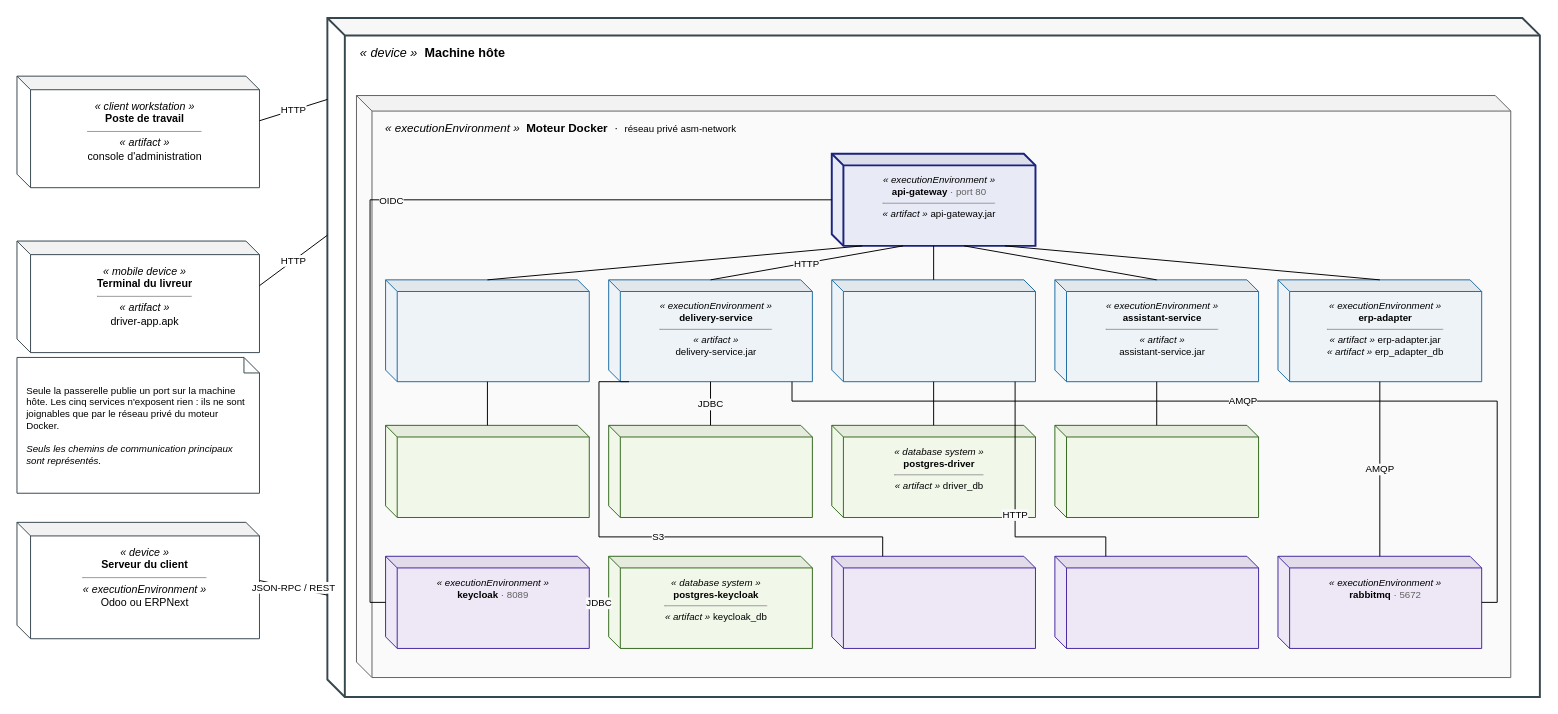
This 1558x714 diagram has some shape labels left out. Each missing label, with the box of its shape:
« database system » postgres-app « artifact » app_db: (385, 424, 589, 517)
« database system » postgres-assistant « artifact » assistant_db: (1054, 424, 1259, 517)
« database system » postgres-delivery « artifact » delivery_db: (608, 424, 812, 517)
« executionEnvironment » app-backend « artifact » app-backend.jar: (385, 279, 589, 382)
« executionEnvironment » driver-service « artifact » driver-service.jar: (831, 279, 1035, 382)
« executionEnvironment » minio · 9000 « artifact » preuves de livraison: (831, 555, 1035, 648)
« executionEnvironment » osrm · 5000 « artifact » carte routière: (1054, 555, 1259, 648)
